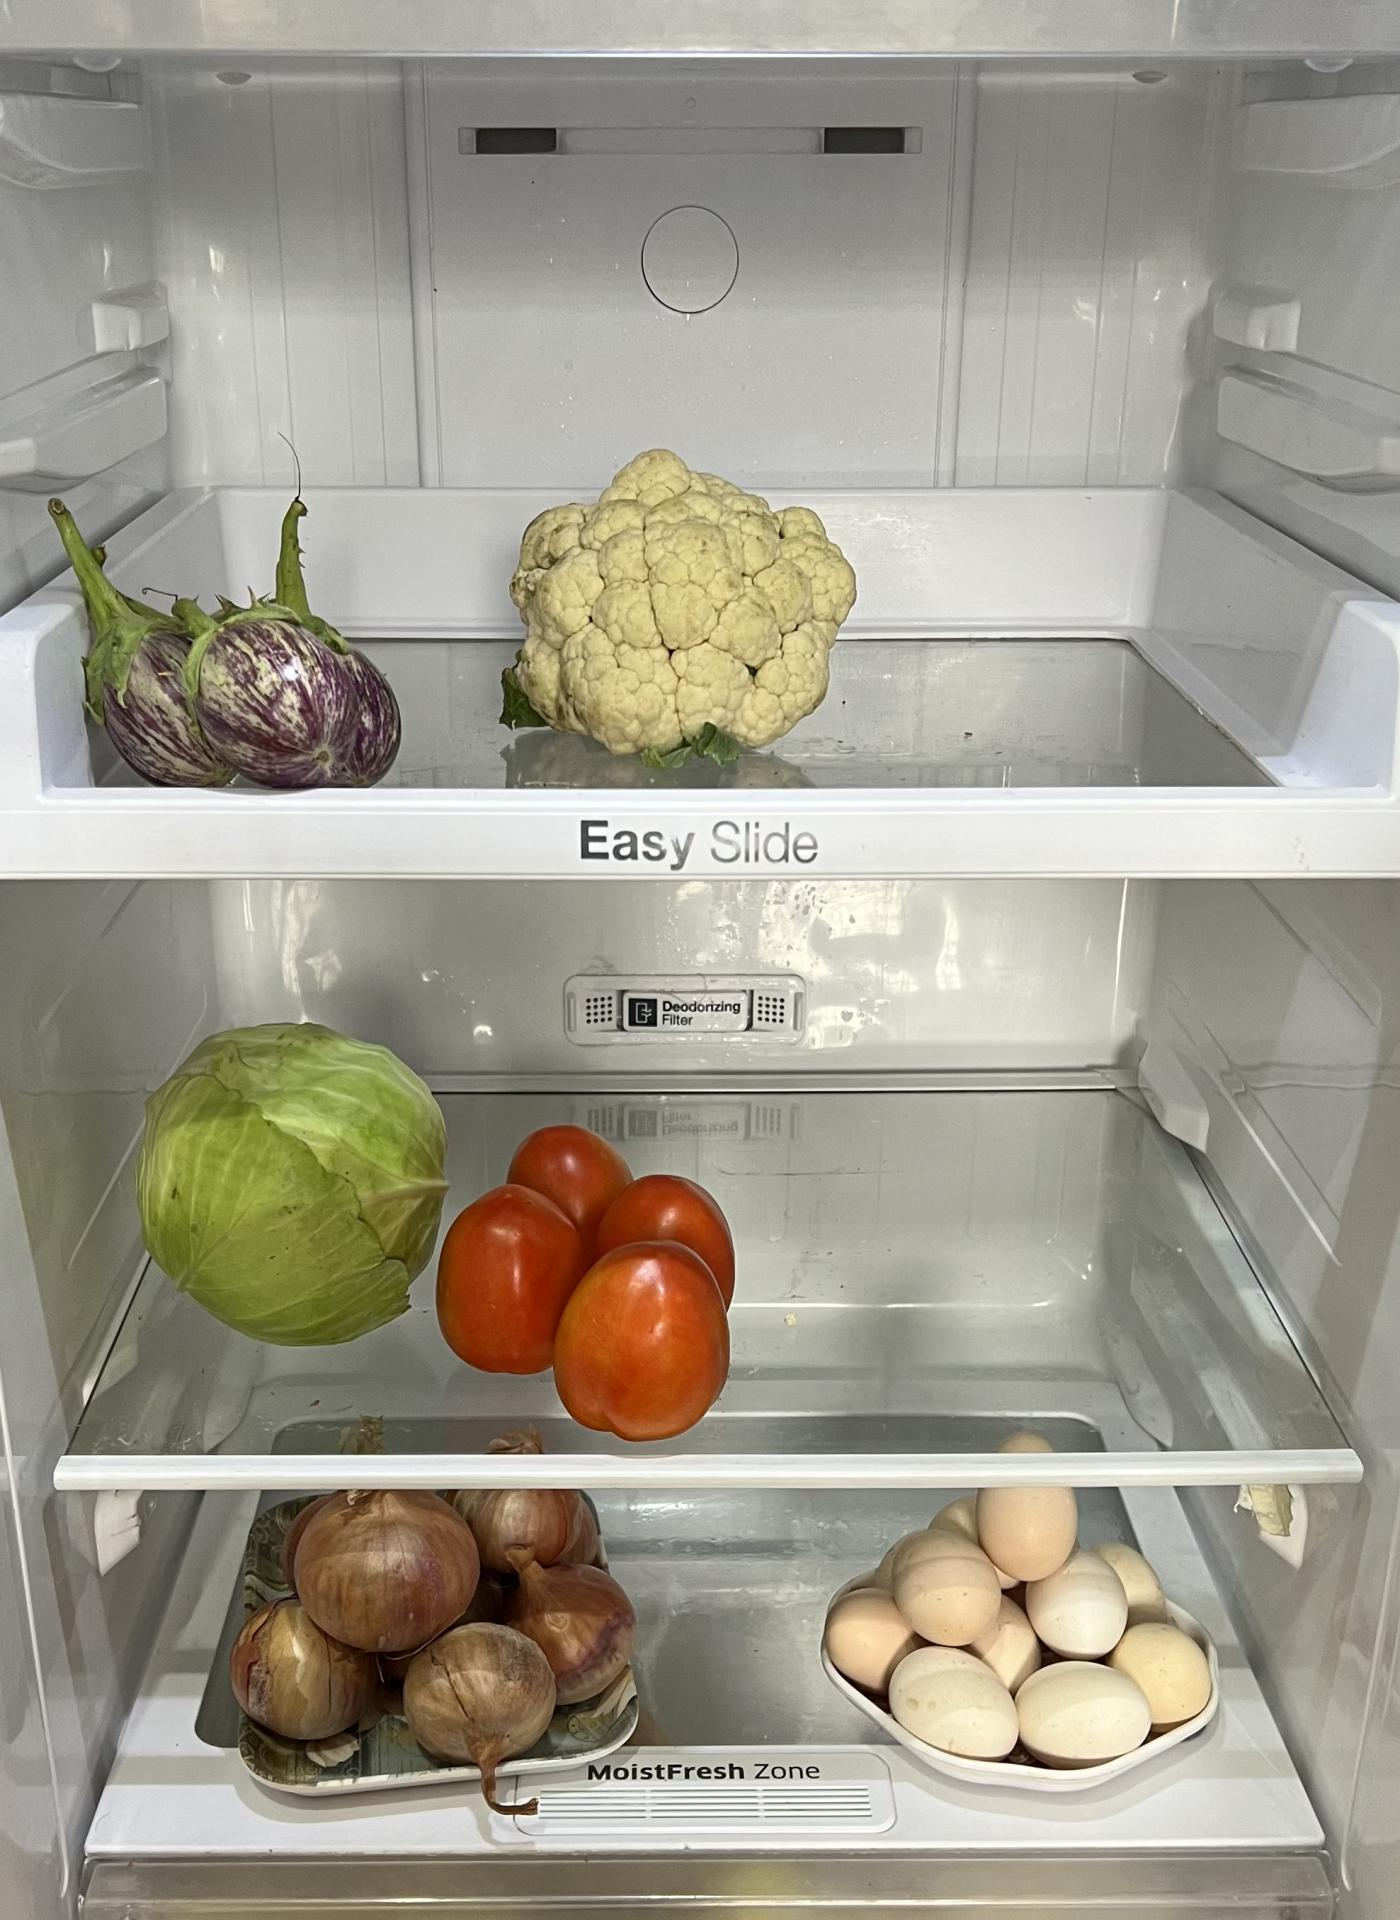cabbage: (131, 1011, 437, 1342)
cauliflower: (499, 441, 857, 753)
egg: (811, 1483, 1215, 1771)
onion: (224, 1494, 638, 1769)
tomato: (438, 1115, 747, 1440)
